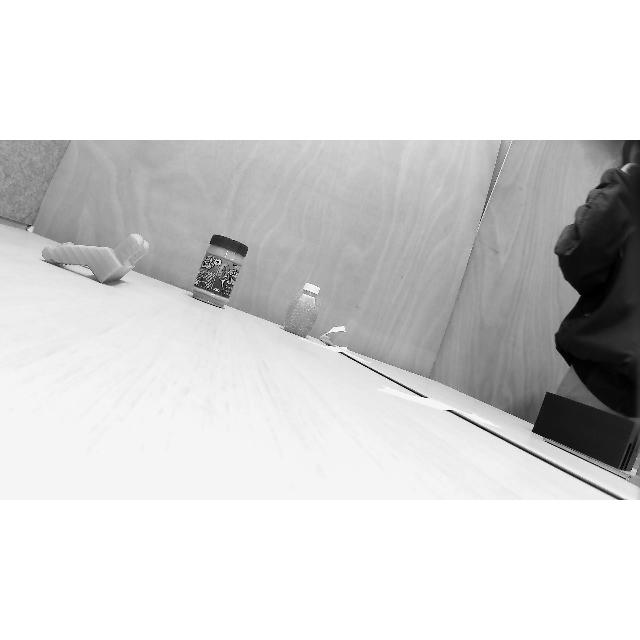targets: (532, 390, 640, 470), (43, 231, 154, 287), (188, 232, 250, 308), (280, 280, 324, 340)
